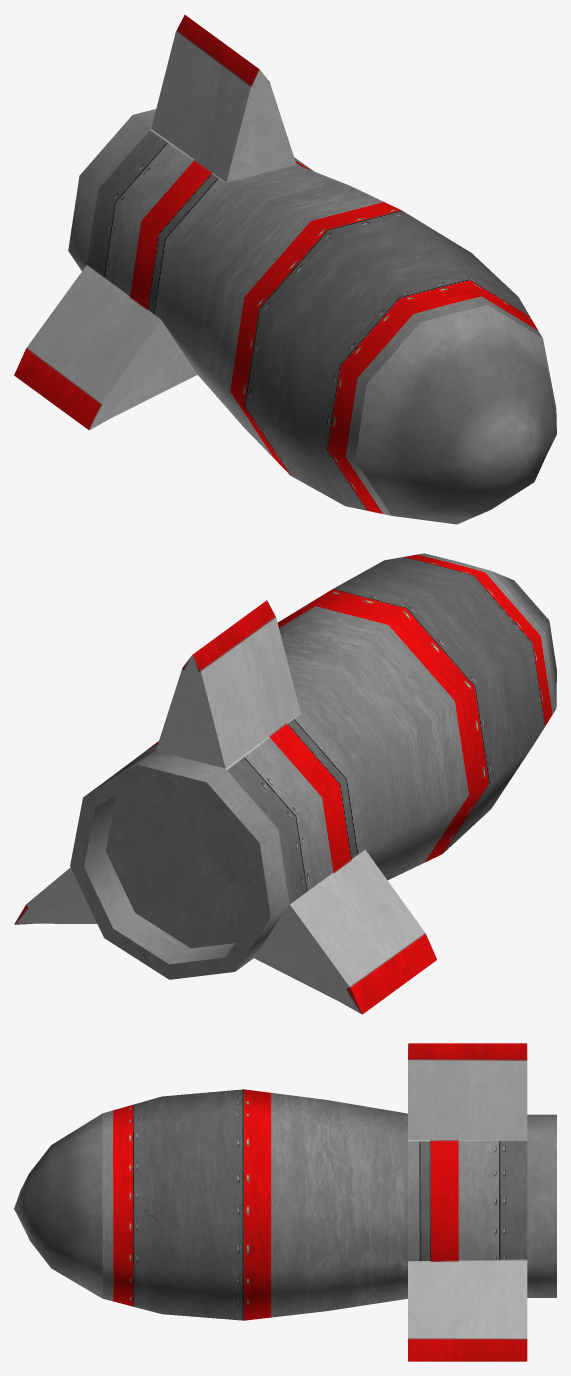
The model's file is Super_Rocket_FBX.fbx.
The picture shows the model from 3 angles, top to bottom: view 1: azimuth 30°, elevation 25°; view 2: azimuth 150°, elevation 25°; view 3: azimuth 270°, elevation 25°; orthographic projection. The views are drawn at different scales.
Visible parts, largest first — view 1: polySurface35; view 2: polySurface35; view 3: polySurface35.
Part boxes in pixels (x1,y1,x2,y2): polySurface35: [14, 15, 556, 524]; polySurface35: [14, 553, 556, 1014]; polySurface35: [14, 1043, 556, 1361].
Size of the model in its own units: 52.05 by 48.97 by 88.39.
